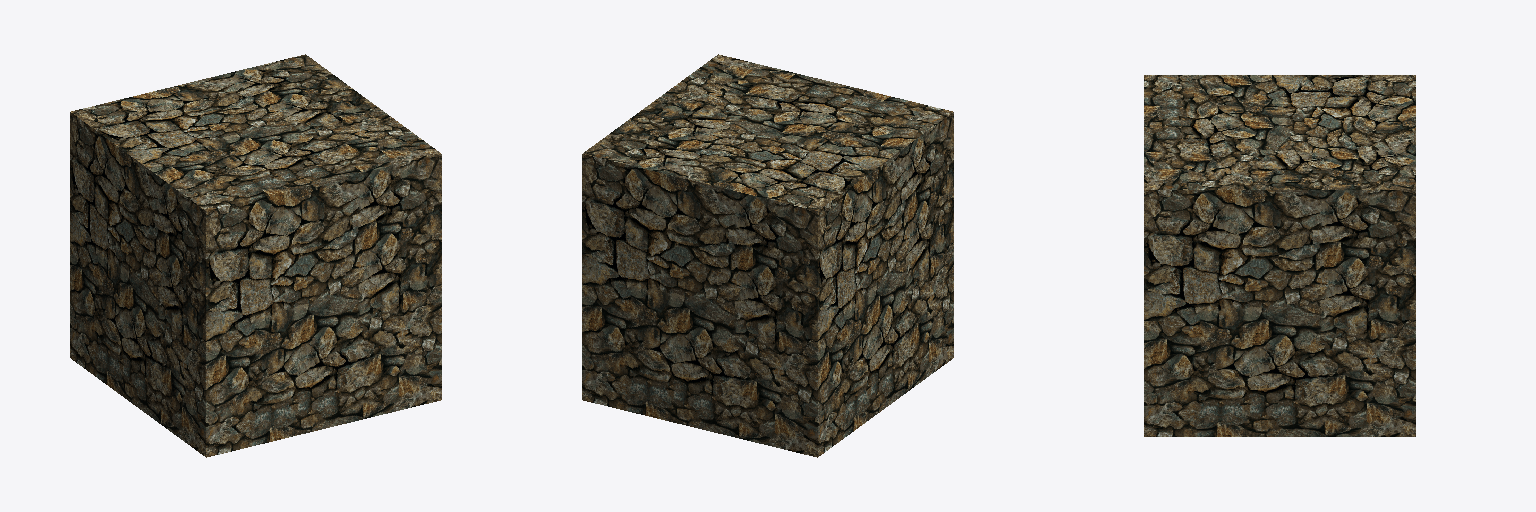
The picture shows the model from 3 angles: view 1: azimuth 30°, elevation 25°; view 2: azimuth 150°, elevation 25°; view 3: azimuth 270°, elevation 25°; orthographic projection.
Visible parts, largest first — view 1: Box001; view 2: Box001; view 3: Box001.
Part boxes in pixels (x1,y1,x2,y2): Box001: (70, 54, 441, 457); Box001: (582, 54, 953, 457); Box001: (1144, 75, 1415, 436).
Bounding box in the file's own units: 1 × 1 × 1.
1 materials, 1 textured.